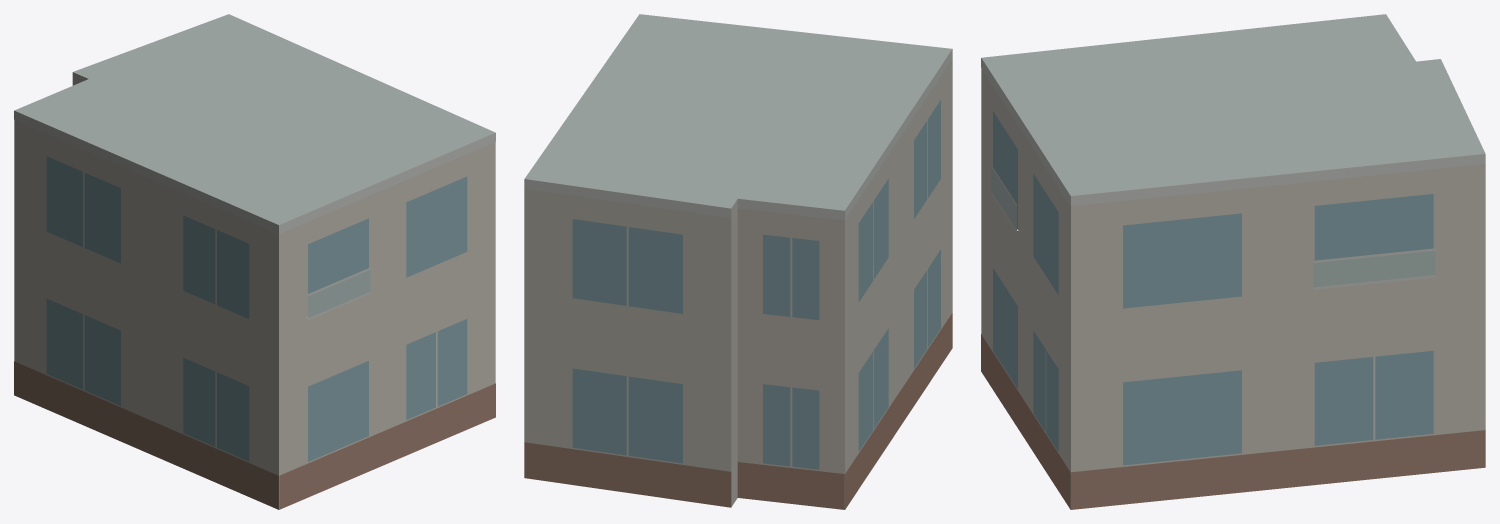
Rendered from survey-upis-32500598.glb.
3 renders of one model, left to right at view 1: azimuth 30°, elevation 25°; view 2: azimuth 150°, elevation 25°; view 3: azimuth 270°, elevation 25°, orthographic. The views are drawn at different scales.
Parts seen in each view (by area): view 1: survey-upis-32500598.tmp; view 2: survey-upis-32500598.tmp; view 3: survey-upis-32500598.tmp.
Boxes of the visible parts, x1=… form: survey-upis-32500598.tmp: x1=14, y1=14, x2=495, y2=509; survey-upis-32500598.tmp: x1=524, y1=14, x2=952, y2=509; survey-upis-32500598.tmp: x1=981, y1=14, x2=1485, y2=509.
Bounding box in the file's own units: 9.47 × 7.6 × 11.08.
